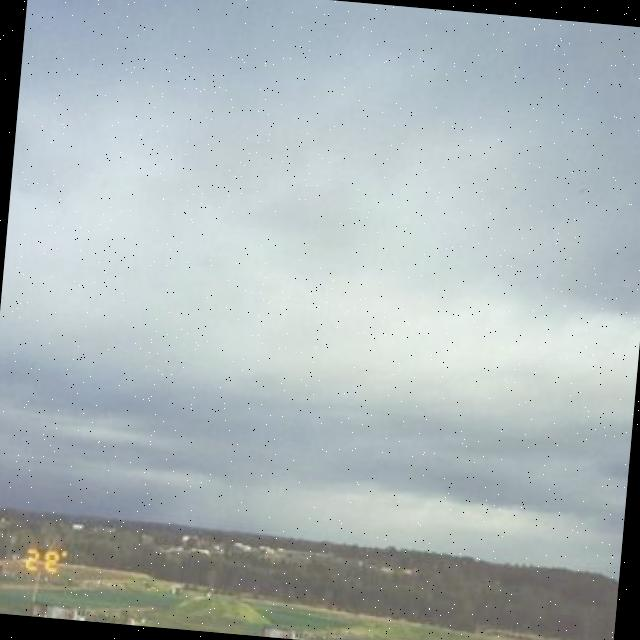Ns: (1, 15, 640, 522)
